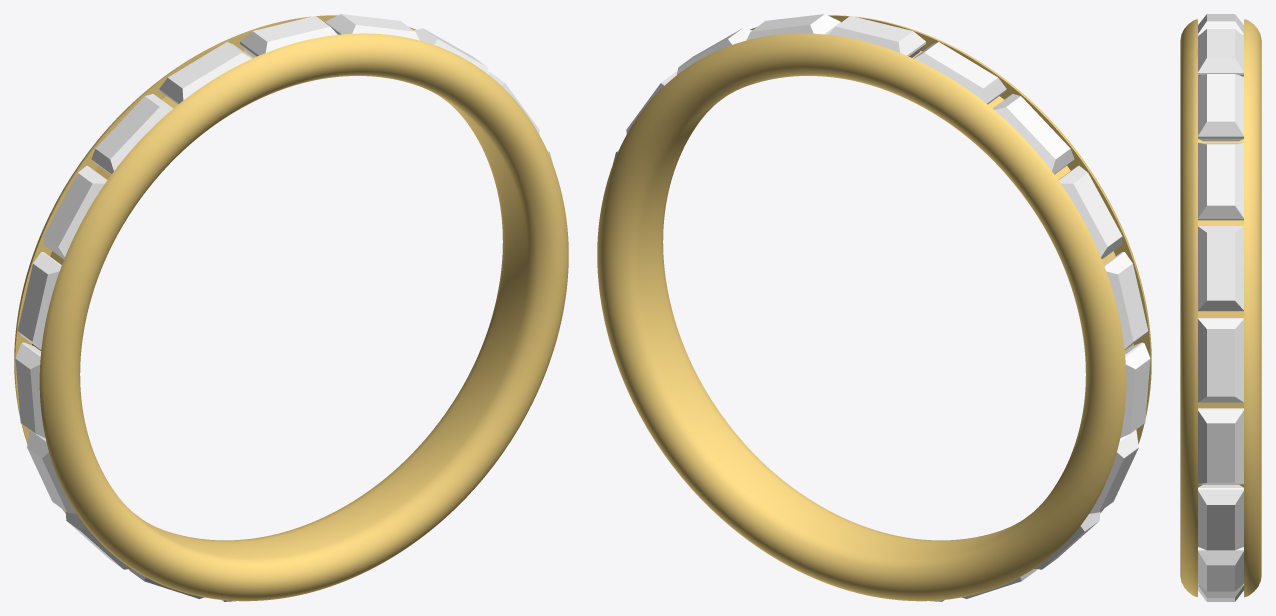
File: Emilynew_webgi.glb
The picture shows the model from 3 angles, left to right: view 1: azimuth 30°, elevation 25°; view 2: azimuth 150°, elevation 25°; view 3: azimuth 270°, elevation 25°; orthographic projection. The views are drawn at different scales.
Parts seen in each view (by area): view 1: Emily_new_YG_3d_model, Emily_new_dia_3d_model002, Emily_new_dia_3d_model001, Emily_new_dia_3d_model, Emily_new_dia_3d_model003, Emily_new_dia_3d_model018, Emily_new_dia_3d_model004, Emily_new_dia_3d_model017, Emily_new_dia_3d_model005; view 2: Emily_new_YG_3d_model, Emily_new_dia_3d_model002, Emily_new_dia_3d_model001, Emily_new_dia_3d_model, Emily_new_dia_3d_model003, Emily_new_dia_3d_model018, Emily_new_dia_3d_model004, Emily_new_dia_3d_model017, Emily_new_dia_3d_model005; view 3: Emily_new_YG_3d_model, Emily_new_dia_3d_model015, Emily_new_dia_3d_model014, Emily_new_dia_3d_model016, Emily_new_dia_3d_model013, Emily_new_dia_3d_model017, Emily_new_dia_3d_model012, Emily_new_dia_3d_model018, Emily_new_dia_3d_model011, Emily_new_dia_3d_model, Emily_new_dia_3d_model010.
Boxes of the visible parts, x1=… form: Emily_new_YG_3d_model: x1=14, y1=15, x2=568, y2=601; Emily_new_dia_3d_model002: x1=43, y1=165, x2=107, y2=258; Emily_new_dia_3d_model001: x1=91, y1=94, x2=173, y2=174; Emily_new_dia_3d_model: x1=159, y1=42, x2=252, y2=104; Emily_new_dia_3d_model003: x1=17, y1=252, x2=61, y2=349; Emily_new_dia_3d_model018: x1=240, y1=16, x2=337, y2=57; Emily_new_dia_3d_model004: x1=15, y1=342, x2=45, y2=437; Emily_new_dia_3d_model017: x1=325, y1=14, x2=419, y2=40; Emily_new_dia_3d_model005: x1=27, y1=430, x2=76, y2=513; Emily_new_YG_3d_model: x1=597, y1=15, x2=1151, y2=601; Emily_new_dia_3d_model002: x1=1058, y1=165, x2=1122, y2=258; Emily_new_dia_3d_model001: x1=992, y1=94, x2=1074, y2=174; Emily_new_dia_3d_model: x1=913, y1=42, x2=1006, y2=104; Emily_new_dia_3d_model003: x1=1104, y1=252, x2=1148, y2=349; Emily_new_dia_3d_model018: x1=828, y1=16, x2=925, y2=57; Emily_new_dia_3d_model004: x1=1120, y1=342, x2=1150, y2=437; Emily_new_dia_3d_model017: x1=746, y1=14, x2=840, y2=40; Emily_new_dia_3d_model005: x1=1089, y1=430, x2=1138, y2=513; Emily_new_YG_3d_model: x1=1180, y1=19, x2=1261, y2=597; Emily_new_dia_3d_model015: x1=1198, y1=226, x2=1243, y2=311; Emily_new_dia_3d_model014: x1=1198, y1=318, x2=1243, y2=402; Emily_new_dia_3d_model016: x1=1198, y1=142, x2=1243, y2=220; Emily_new_dia_3d_model013: x1=1198, y1=408, x2=1243, y2=484; Emily_new_dia_3d_model017: x1=1198, y1=74, x2=1243, y2=141; Emily_new_dia_3d_model012: x1=1198, y1=484, x2=1243, y2=550; Emily_new_dia_3d_model018: x1=1198, y1=29, x2=1243, y2=76; Emily_new_dia_3d_model011: x1=1198, y1=547, x2=1243, y2=591; Emily_new_dia_3d_model: x1=1198, y1=14, x2=1243, y2=35; Emily_new_dia_3d_model010: x1=1198, y1=584, x2=1243, y2=601.
Size of the model in its own units: 2.82 by 2.81 by 0.3899.
